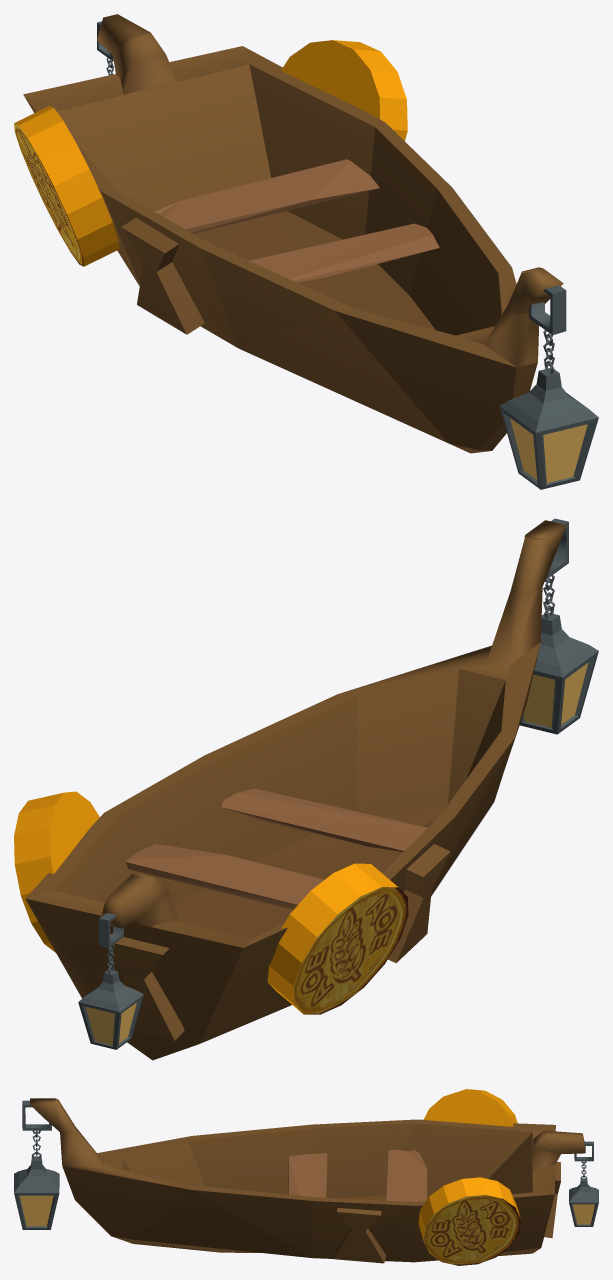
The model's file is BoatLevel1_Seperated.fbx.
The picture shows the model from 3 angles, top to bottom: view 1: azimuth 30°, elevation 25°; view 2: azimuth 150°, elevation 25°; view 3: azimuth 270°, elevation 25°; orthographic projection. The views are drawn at different scales.
Parts seen in each view (by area): view 1: LanternFront, LanternFront.001; view 2: LanternFront, LanternFront.001, LanternBack.001; view 3: LanternFront, LanternFront.001, LanternBack.001.
Boxes of the visible parts, x1,y1,x2,y2 form: LanternFront: [14, 14, 566, 453]; LanternFront.001: [499, 330, 598, 489]; LanternFront: [14, 518, 568, 1060]; LanternFront.001: [520, 575, 598, 734]; LanternBack.001: [78, 944, 143, 1049]; LanternFront: [22, 1089, 593, 1265]; LanternFront.001: [14, 1130, 59, 1229]; LanternBack.001: [569, 1161, 598, 1226].
Bounding box in the file's own units: 164 × 106 × 372.
